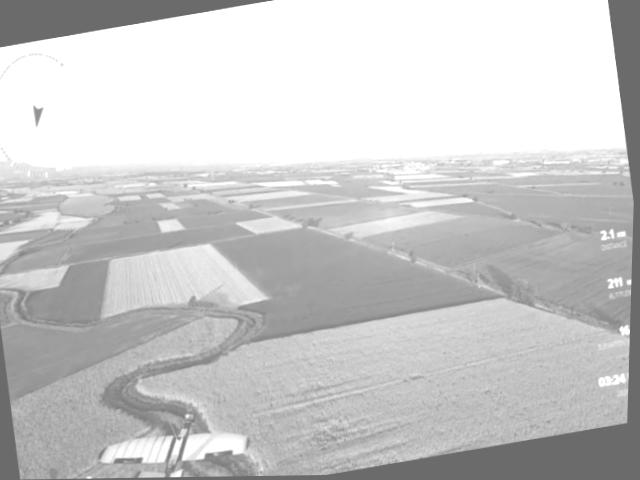hedef: (95, 403, 265, 479)
